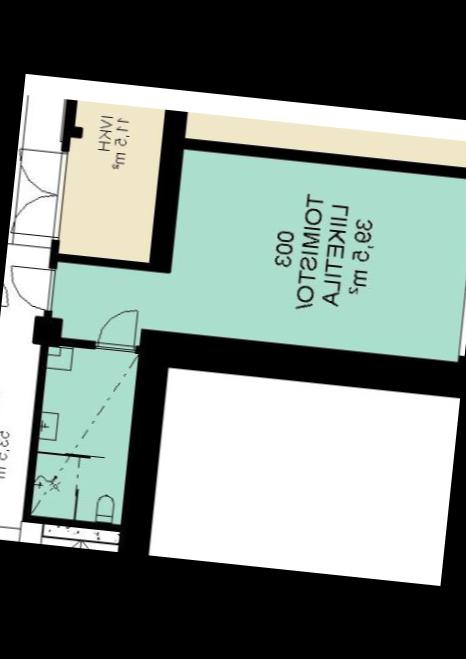door: (3, 259, 62, 313), (13, 144, 69, 198), (8, 192, 66, 244), (94, 304, 142, 356)
window: (454, 283, 466, 361), (461, 181, 466, 262)
